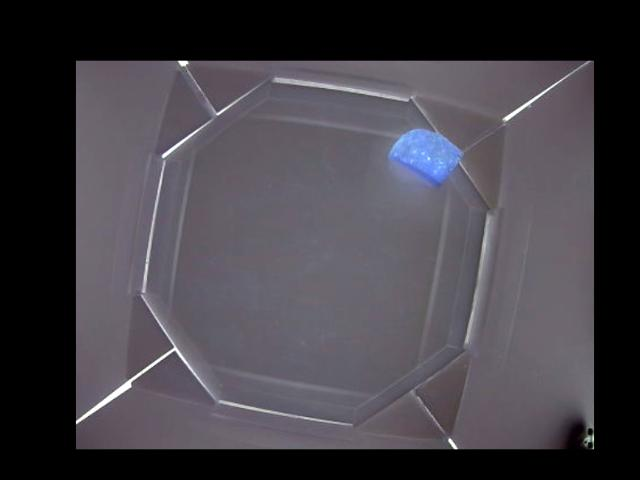Potato: (390, 128, 460, 184)
